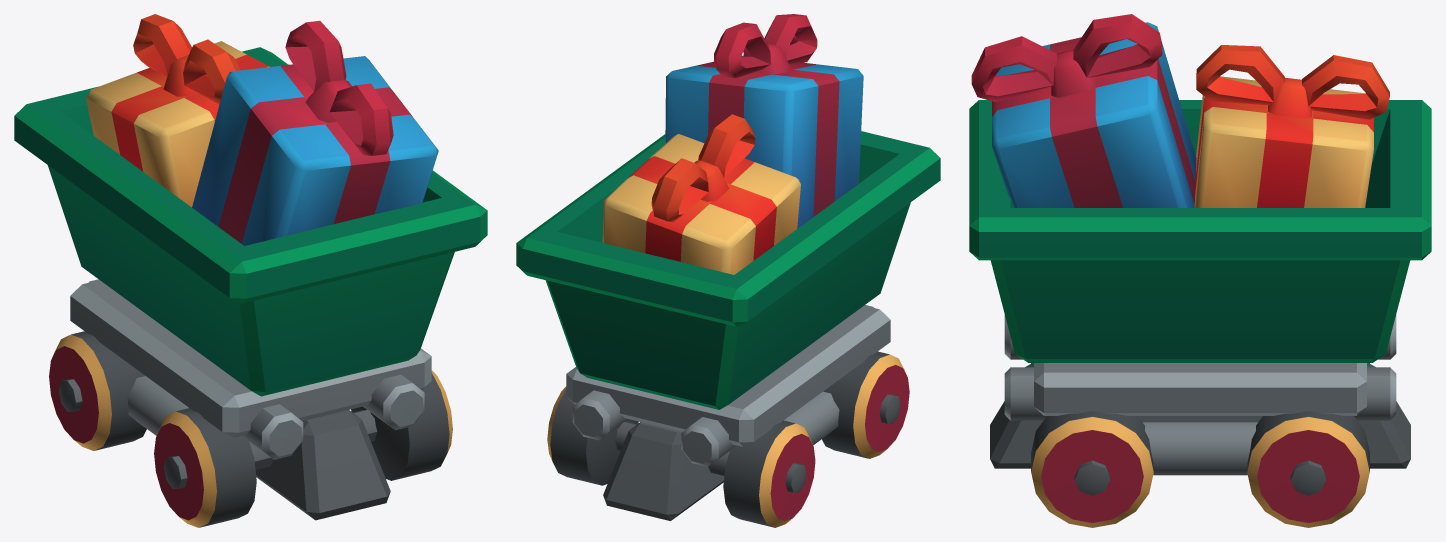
File: train_tender_presents_B.glb
3 views of the same model, side by side, from view 1: azimuth 30°, elevation 25°; view 2: azimuth 150°, elevation 25°; view 3: azimuth 270°, elevation 25° (orthographic). The views are drawn at different scales.
Parts seen in each view (by area): view 1: train_tender_presents_B; view 2: train_tender_presents_B; view 3: train_tender_presents_B.
Part boxes in pixels (x1=…): train_tender_presents_B: x1=14, y1=14, x2=487, y2=527; train_tender_presents_B: x1=516, y1=14, x2=940, y2=527; train_tender_presents_B: x1=969, y1=14, x2=1431, y2=527.
Bounding box in the file's own units: 0.4459 × 0.715 × 0.6421.
1 material, 1 textured.
